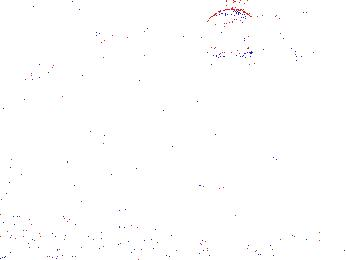moon jellyfish: (255, 71, 308, 163), (16, 65, 100, 109), (249, 4, 298, 72), (199, 9, 262, 58), (84, 6, 166, 42), (70, 1, 160, 27)
